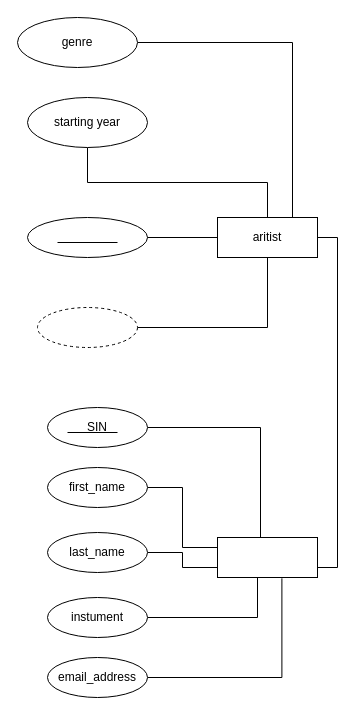
The diagram is 356 pixels wide and 715 high, and some of its shapes have lost their labels. The shapes that lost their labels are listed below. From the top down, each one's centre as x and y in pixels, then its label:
At point 87,237: "name".
At point 87,327: "member_count".
At point 267,557: "Musician".
